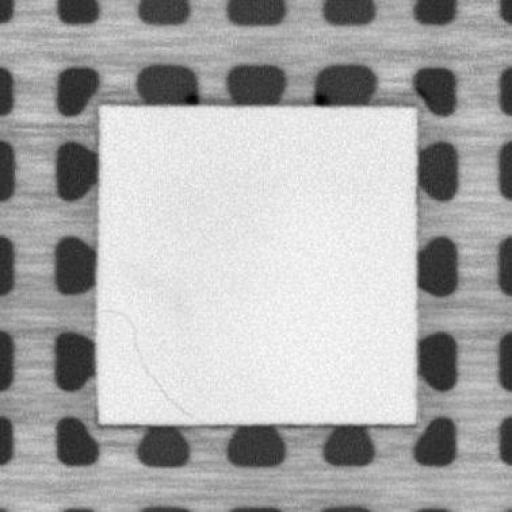DIE_CRACK: (106, 305, 192, 420)
